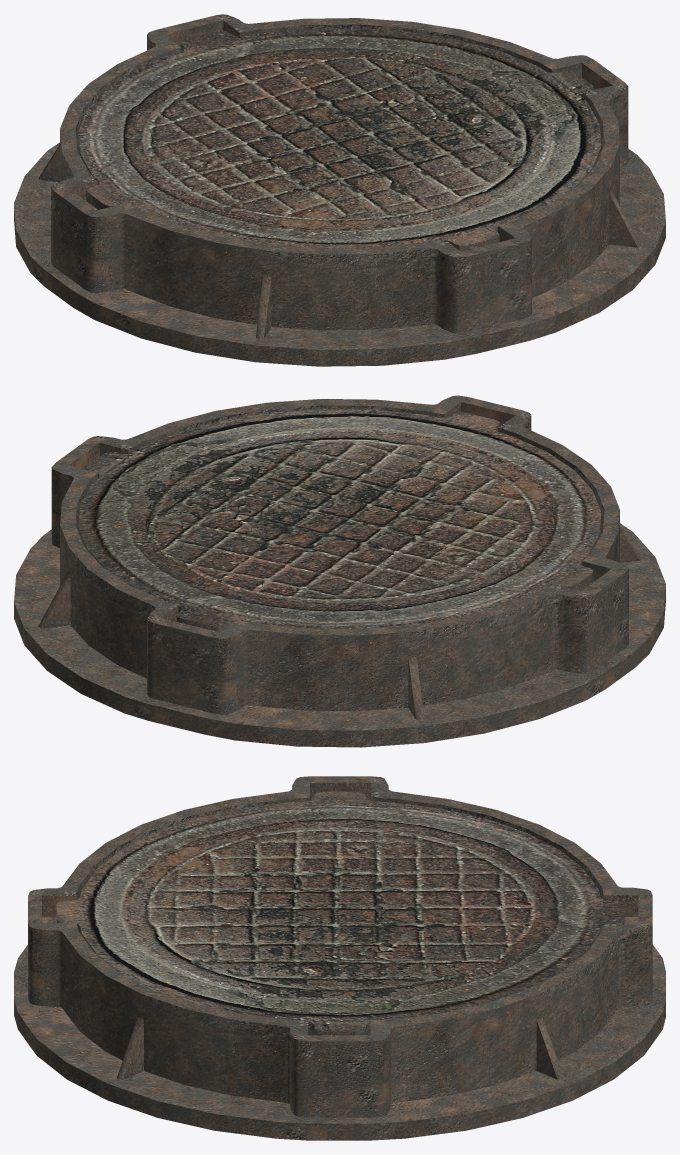
Rendered from manholecover.glb.
3 renders of one model, top to bottom at view 1: azimuth 30°, elevation 25°; view 2: azimuth 150°, elevation 25°; view 3: azimuth 270°, elevation 25°, orthographic.
Visible parts, largest first — view 1: Hatch, ManholeCover; view 2: Hatch, ManholeCover; view 3: Hatch, ManholeCover.
Boxes of the visible parts, x1=… form: Hatch: x1=78, y1=28, x2=601, y2=251; ManholeCover: x1=14, y1=14, x2=665, y2=366; Hatch: x1=78, y1=409, x2=601, y2=632; ManholeCover: x1=14, y1=395, x2=665, y2=747; Hatch: x1=56, y1=791, x2=624, y2=1035; ManholeCover: x1=14, y1=776, x2=665, y2=1140.
Size of the model in its own units: 0.6198 by 0.0976 by 0.6184.
1 material, 1 textured.
